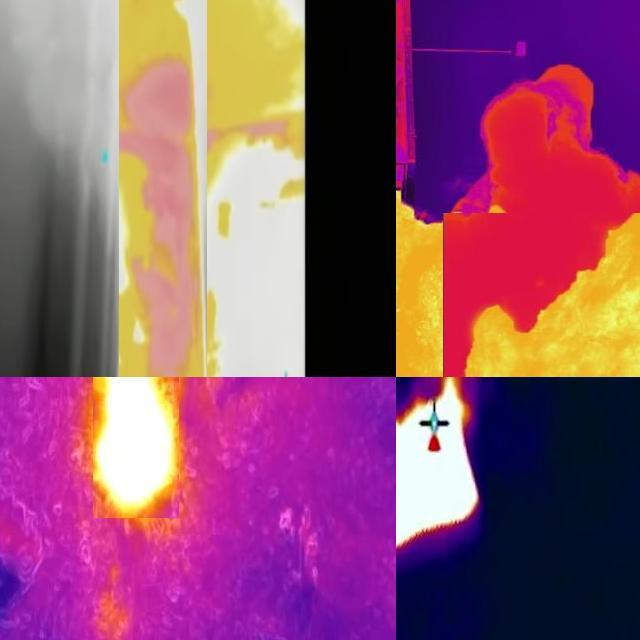fire: (119, 1, 207, 378), (443, 213, 640, 378), (397, 378, 480, 549), (93, 378, 179, 518)
